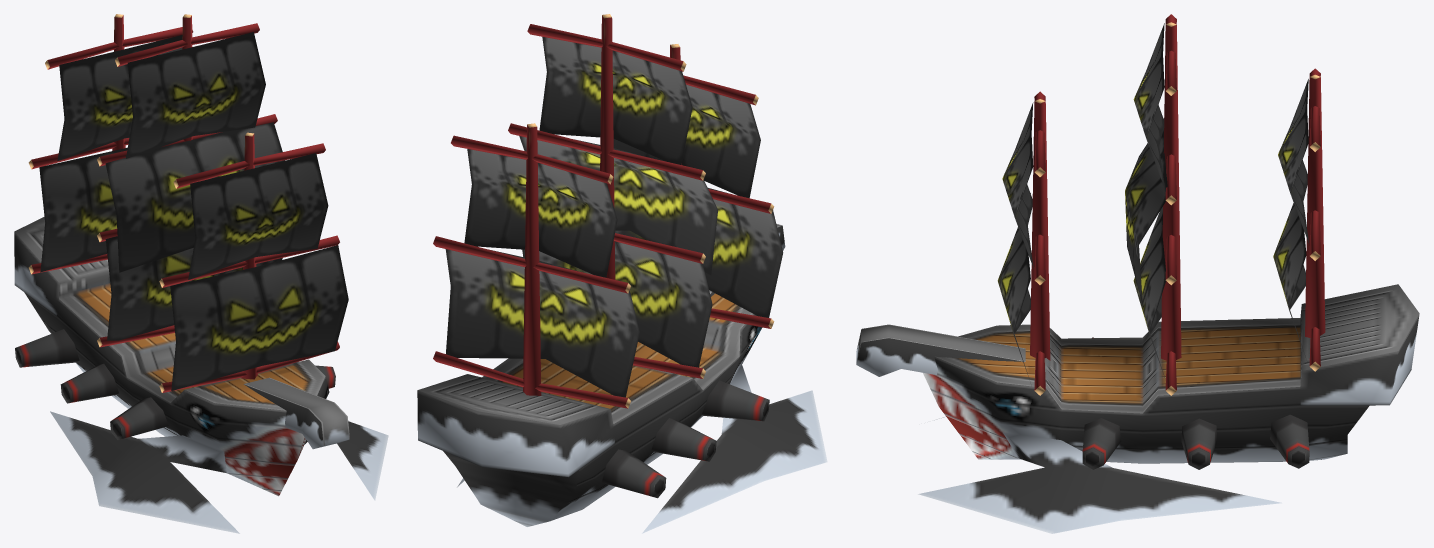
The model's file is ylhdh.FBX.
3 renders of one model, left to right at view 1: azimuth 30°, elevation 25°; view 2: azimuth 150°, elevation 25°; view 3: azimuth 270°, elevation 25°, orthographic. The views are drawn at different scales.
Parts seen in each view (by area): view 1: hhjh; view 2: hhjh; view 3: hhjh.
Boxes of the visible parts, bbox=[...] form: hhjh: bbox=[14, 14, 388, 533]; hhjh: bbox=[417, 14, 827, 533]; hhjh: bbox=[856, 14, 1419, 533].
Bounding box in the file's own units: 115 × 156 × 184.
